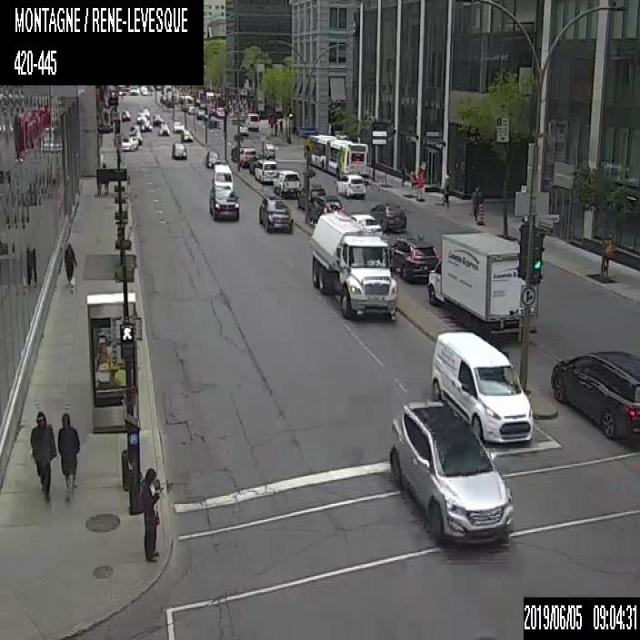bus: (306, 130, 367, 182), (180, 94, 193, 110)
construction: (416, 168, 424, 189)
pedestrian: (28, 409, 56, 502), (137, 467, 160, 561), (56, 408, 78, 501), (62, 241, 76, 291), (601, 230, 611, 278), (470, 184, 479, 221), (443, 168, 450, 204)
vehicle: (386, 398, 533, 542), (424, 228, 537, 338), (429, 331, 534, 444), (308, 214, 400, 324), (549, 347, 639, 437), (388, 236, 433, 284), (258, 195, 294, 233), (208, 184, 239, 218), (370, 202, 406, 230), (308, 196, 341, 223), (271, 168, 300, 197), (297, 182, 326, 211), (334, 173, 366, 196), (212, 164, 233, 194), (253, 158, 276, 182), (239, 146, 255, 168), (120, 134, 138, 152), (248, 153, 264, 173), (170, 140, 186, 159), (204, 150, 220, 168), (130, 124, 142, 144), (244, 112, 258, 128), (233, 124, 247, 140), (264, 142, 275, 158), (230, 145, 240, 160), (157, 123, 169, 135), (140, 119, 152, 131), (180, 129, 192, 140), (172, 120, 183, 132), (152, 113, 163, 125), (121, 107, 130, 120), (196, 107, 206, 118), (141, 107, 150, 118), (136, 112, 145, 123), (215, 106, 224, 116), (187, 104, 195, 112)
